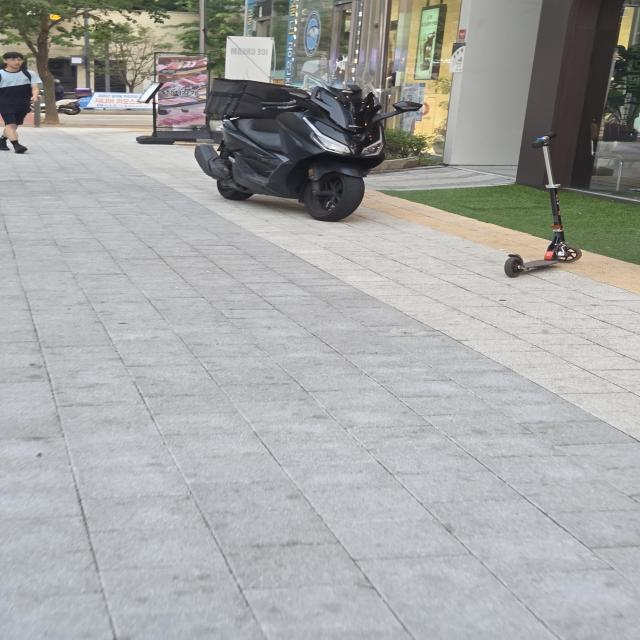motorcycle: (176, 45, 405, 234)
